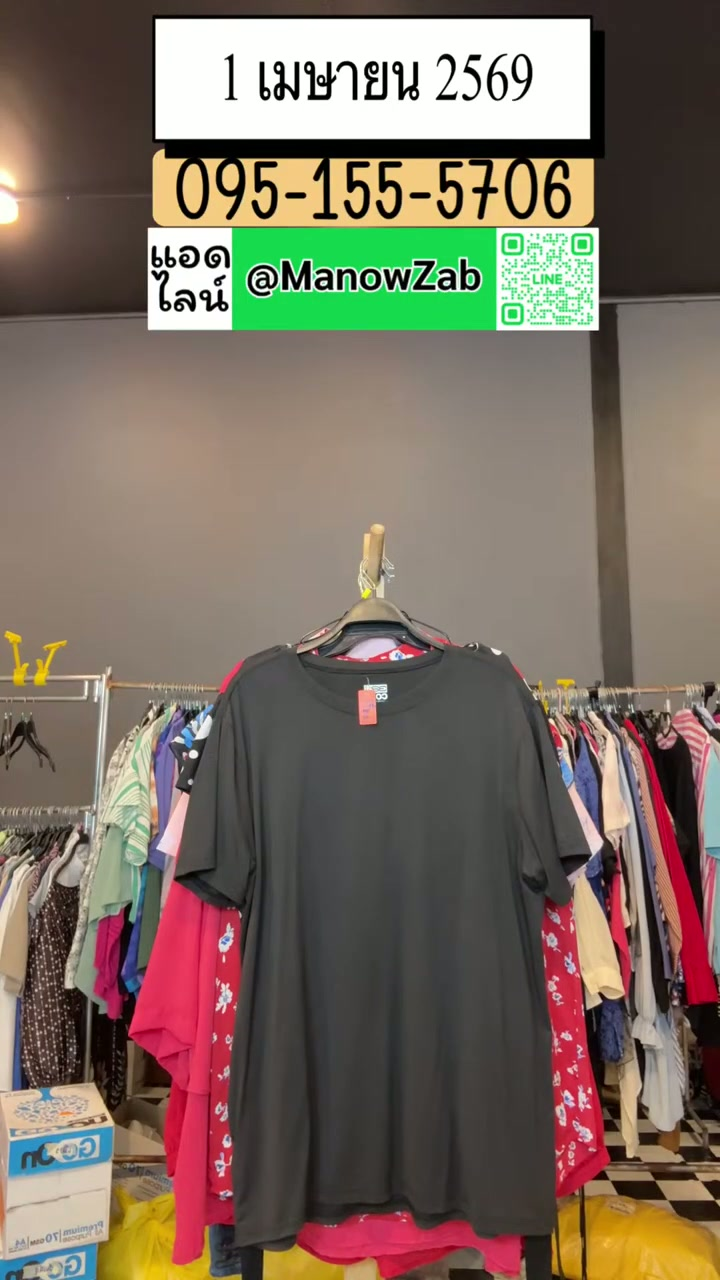display_shirt: (177, 641, 588, 1279)
